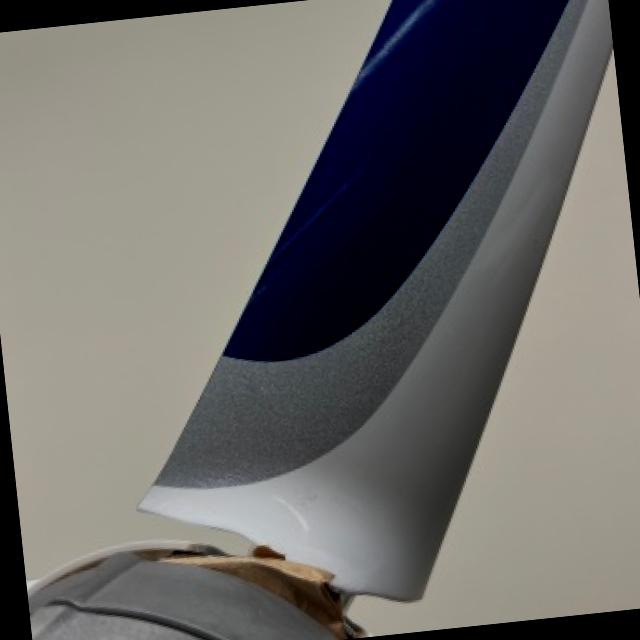healthy: (351, 55, 640, 633), (29, 539, 366, 640)
